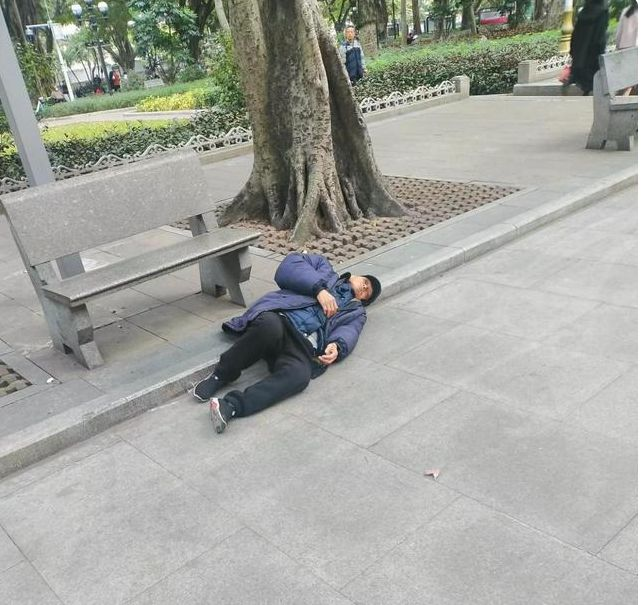falling: (182, 255, 414, 429)
